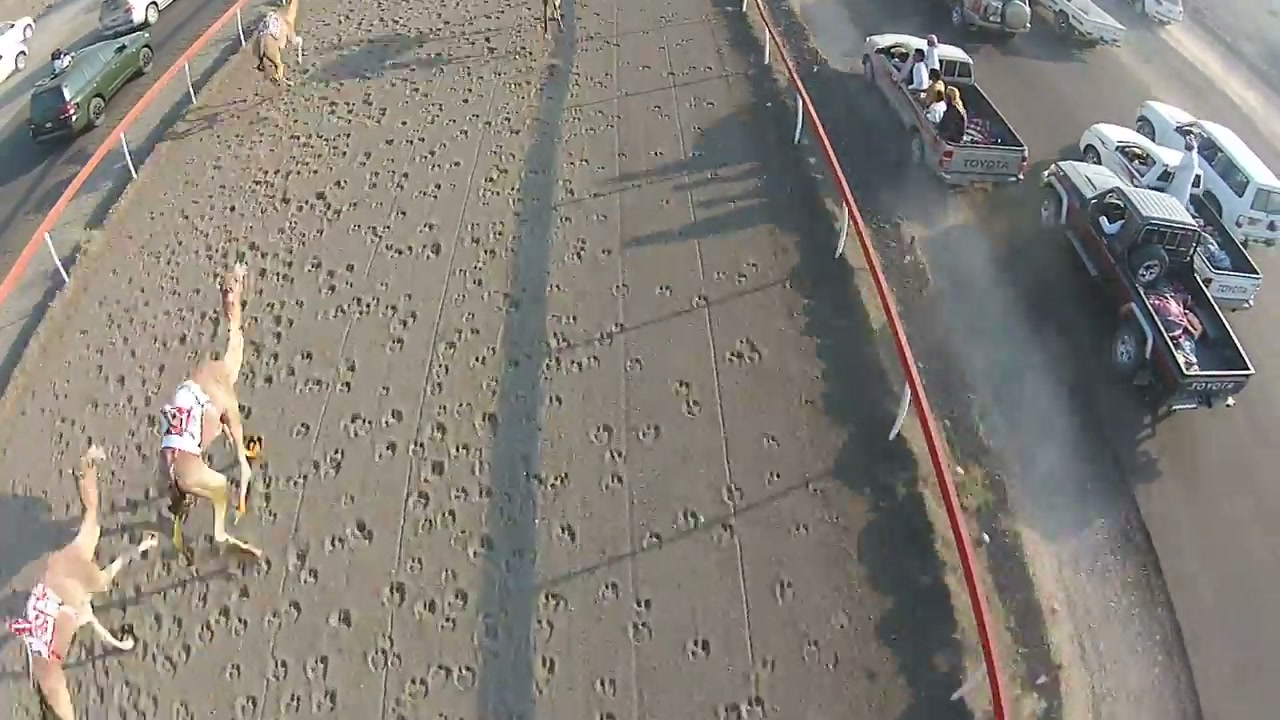animal_foot_print: (0, 0, 895, 719)
